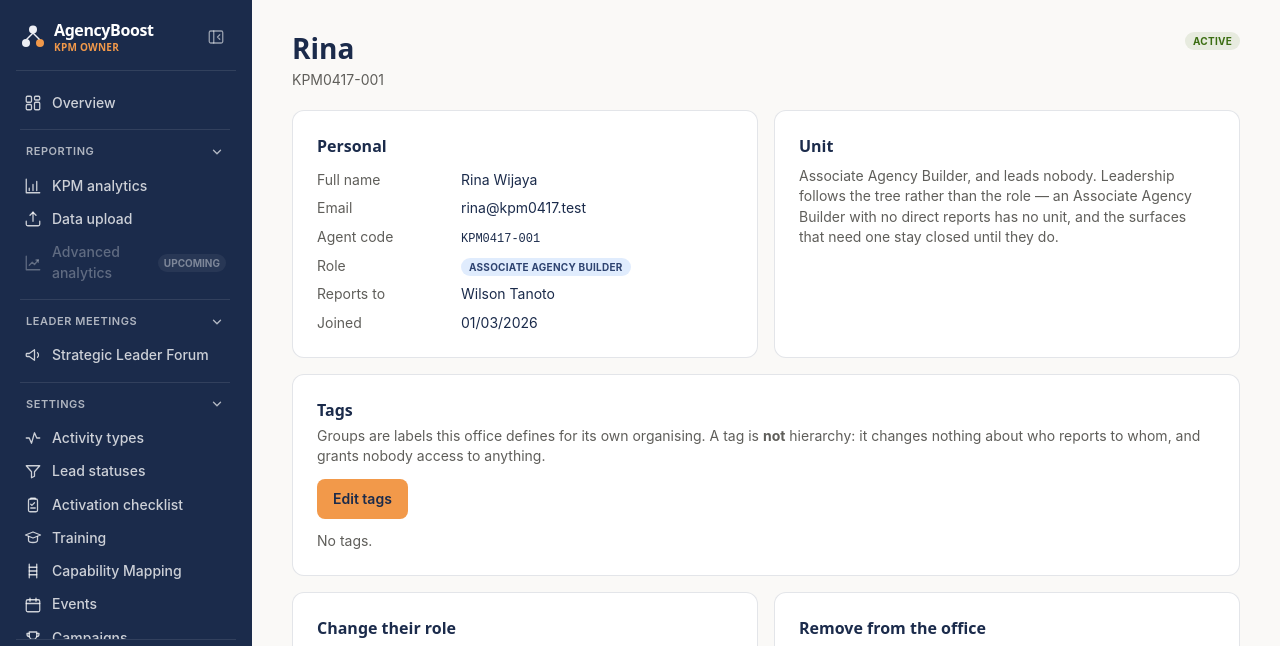
Test: one member › tags (P3-T9) › AC-2: says what Core Leader actually decides, and what it does not
Click the button "Edit tags": (362, 499) 317,479 -> 408,519
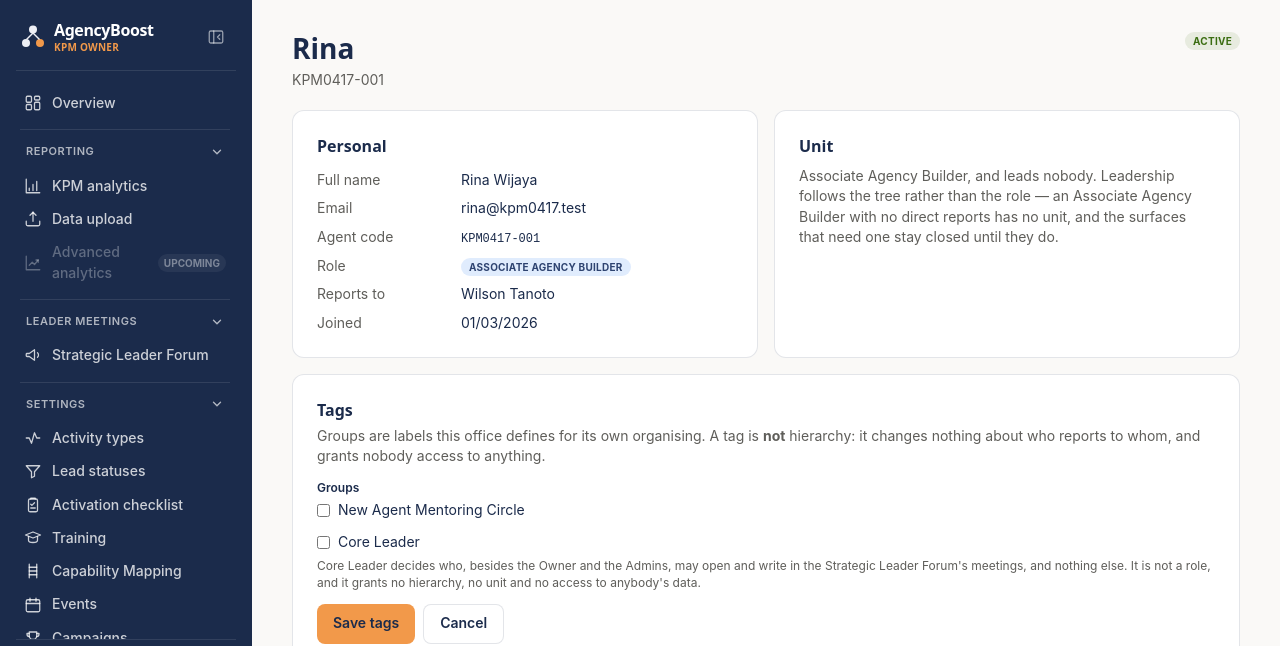
Result: the text "besides the Owner and the Admins, may open and write in the Strategic Leader Forum's meetings, and nothing else" shows "It is not a role, and it grants no hierarchy, no unit and no access to anybody's data" at 317,558 -> 1211,590
